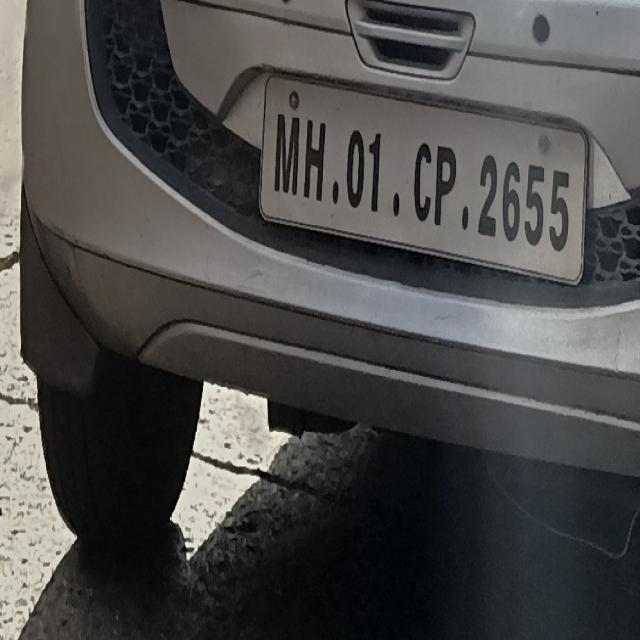Plate: (261, 75, 586, 285)
